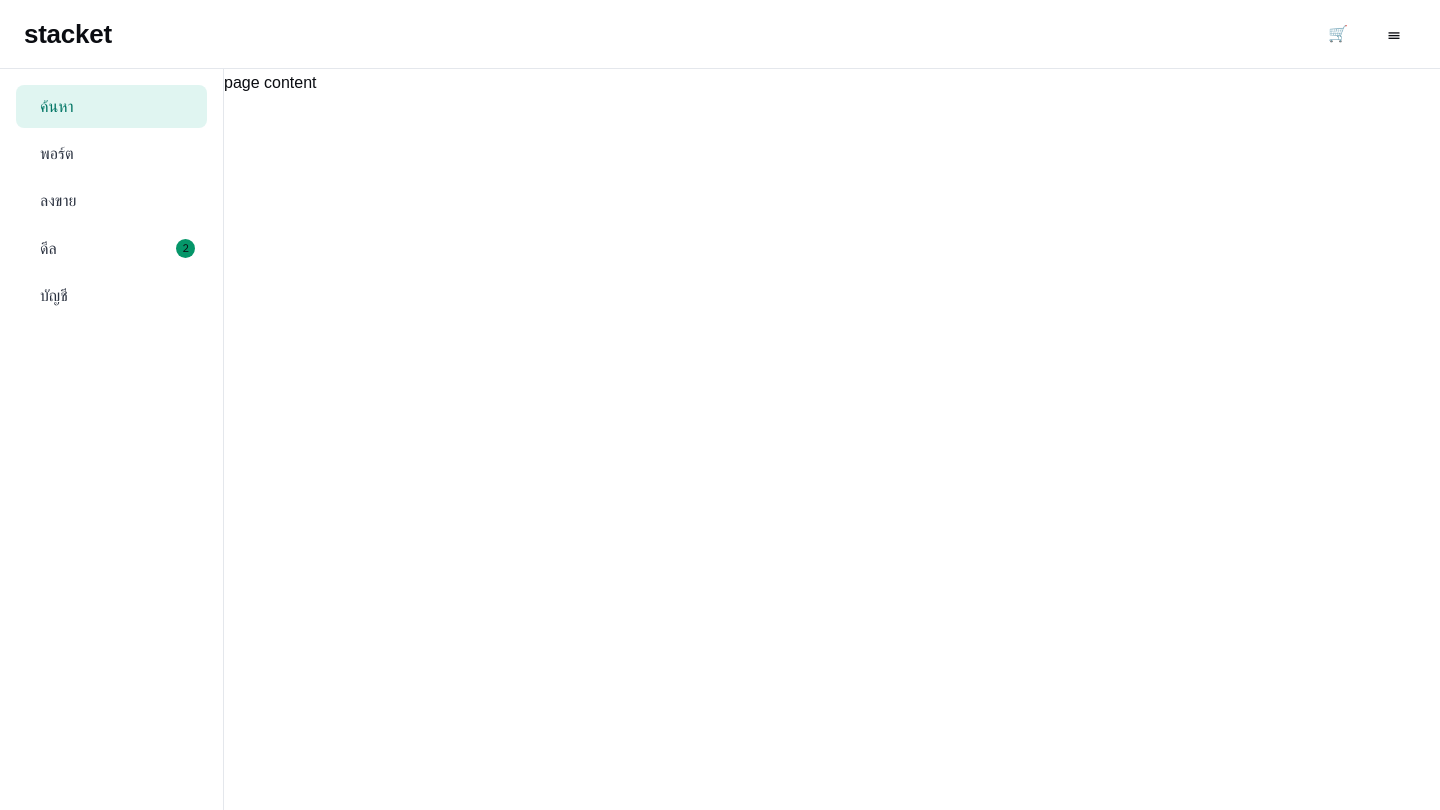
AppShell › opens the drawer on hamburger click and traps focus inside it
What coordinates should you click on to do the following:
click the button named "เปิดเมนู"
I would click on:
 (1394, 34)
Its box is [1372,12,1416,56].
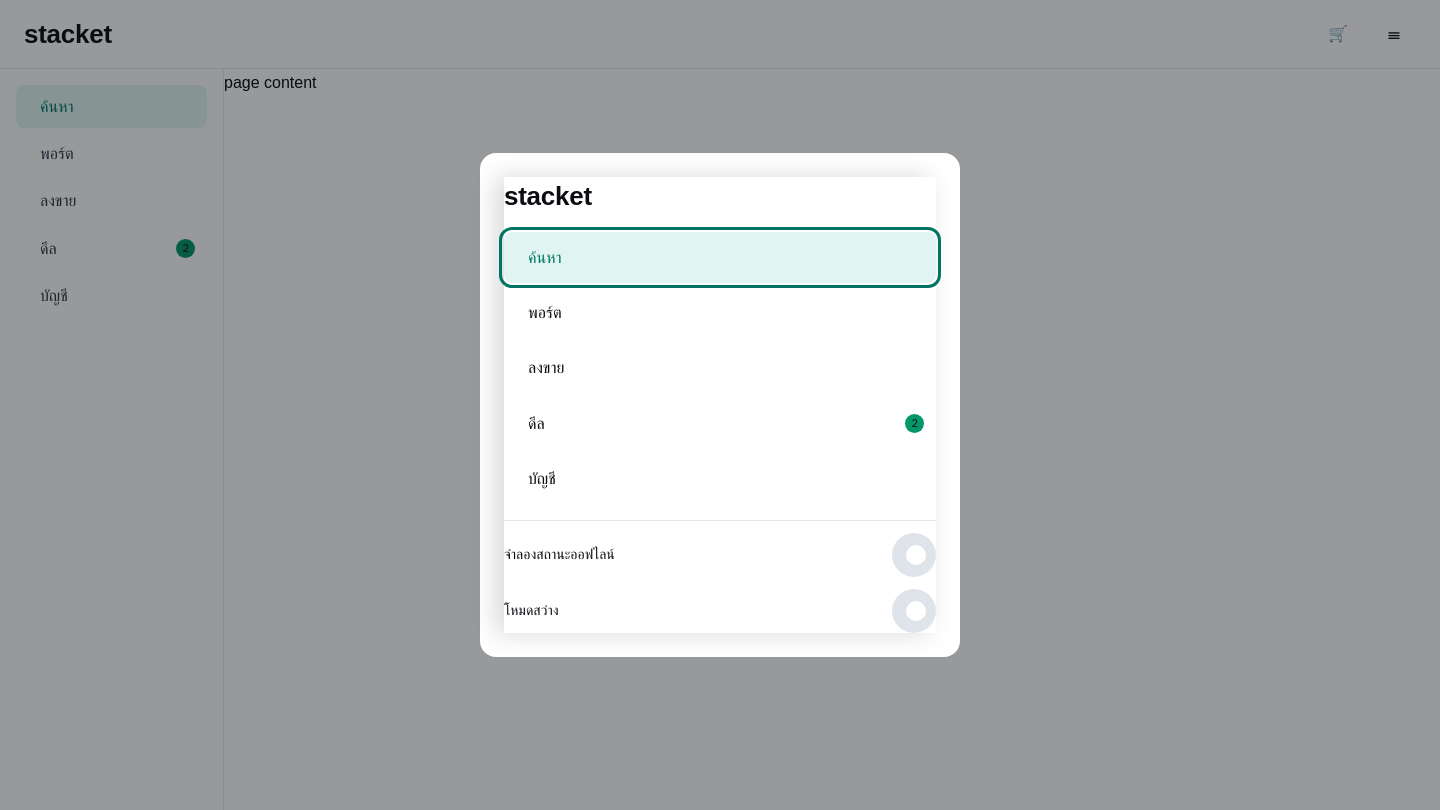
Now the dialog is shown, box [480,153,960,657]
